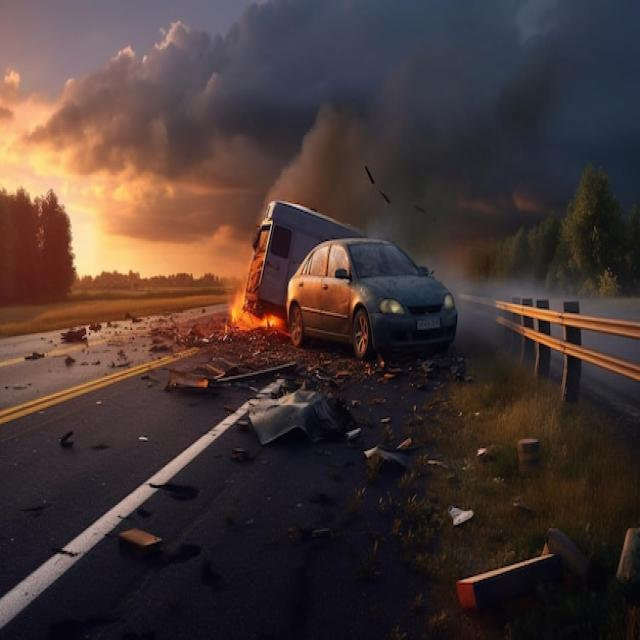Accident: (242, 196, 460, 374)
